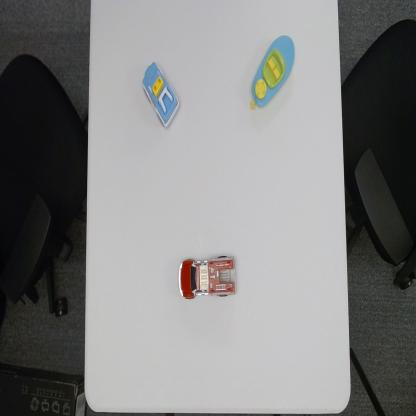Boat: (248, 31, 297, 113)
Car: (141, 59, 181, 131)
Firetruck: (177, 252, 237, 303)
